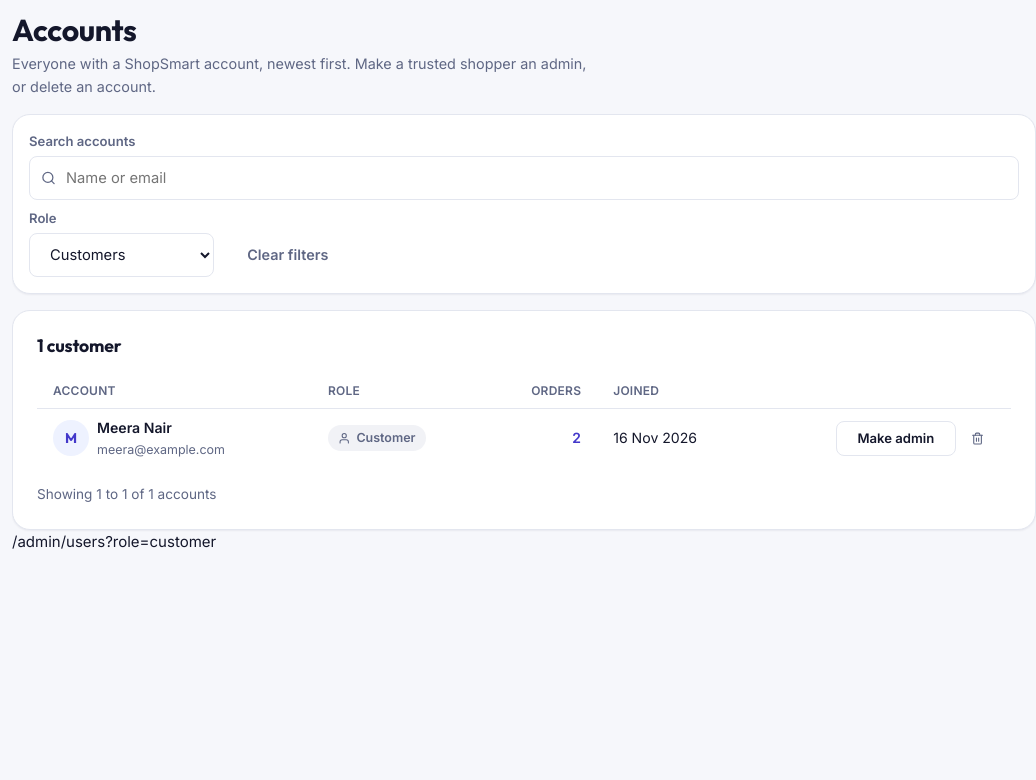
Scenario: AdminUsers › searches by name or email once typing pauses
This screenshot has width=1036, height=780.
Expected: the text "meera@example.com" is shown, [97,440,225,460]
Type " meera " into the search field labelled "Search accounts".
click(524, 178); type(" meera ")  # box [29,156,1019,200]
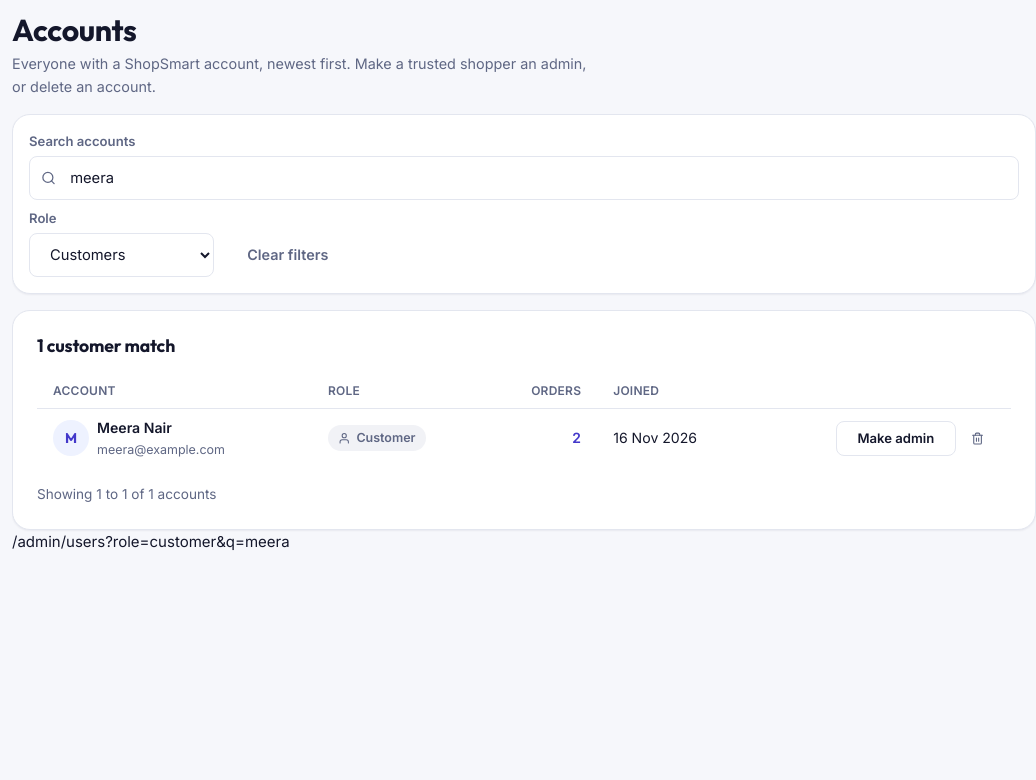
Expected: the text with test id "location" reads "/admin/users?role=customer&q=meera", [12,532,290,551]
